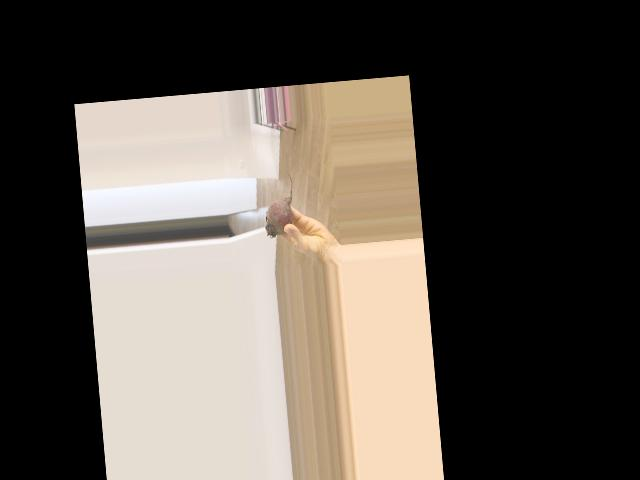beet: (260, 170, 296, 237)
